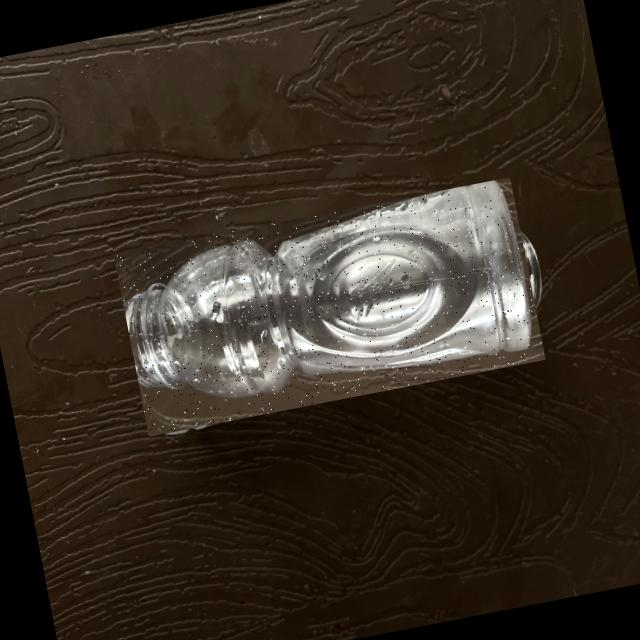PET_With_Liquid: (129, 186, 527, 401)
